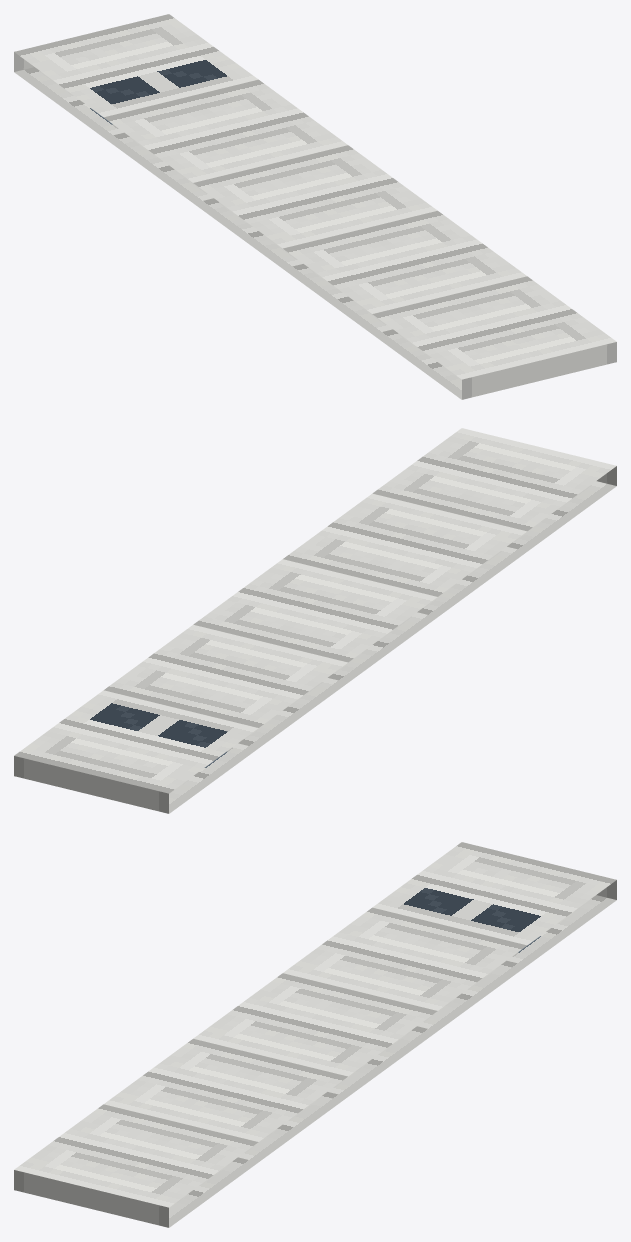
The model's file is windowed_run_5.obj.
The picture shows the model from 3 angles, top to bottom: view 1: azimuth 30°, elevation 25°; view 2: azimuth 150°, elevation 25°; view 3: azimuth 330°, elevation 25°; orthographic projection.
Visible parts, largest first — view 1: run; view 2: run; view 3: run.
Boxes of the visible parts, bbox=[...] form: run: bbox=[14, 14, 616, 399]; run: bbox=[14, 428, 616, 813]; run: bbox=[14, 842, 616, 1227].
Size of the model in its own units: 1 by 0.125 by 5.
